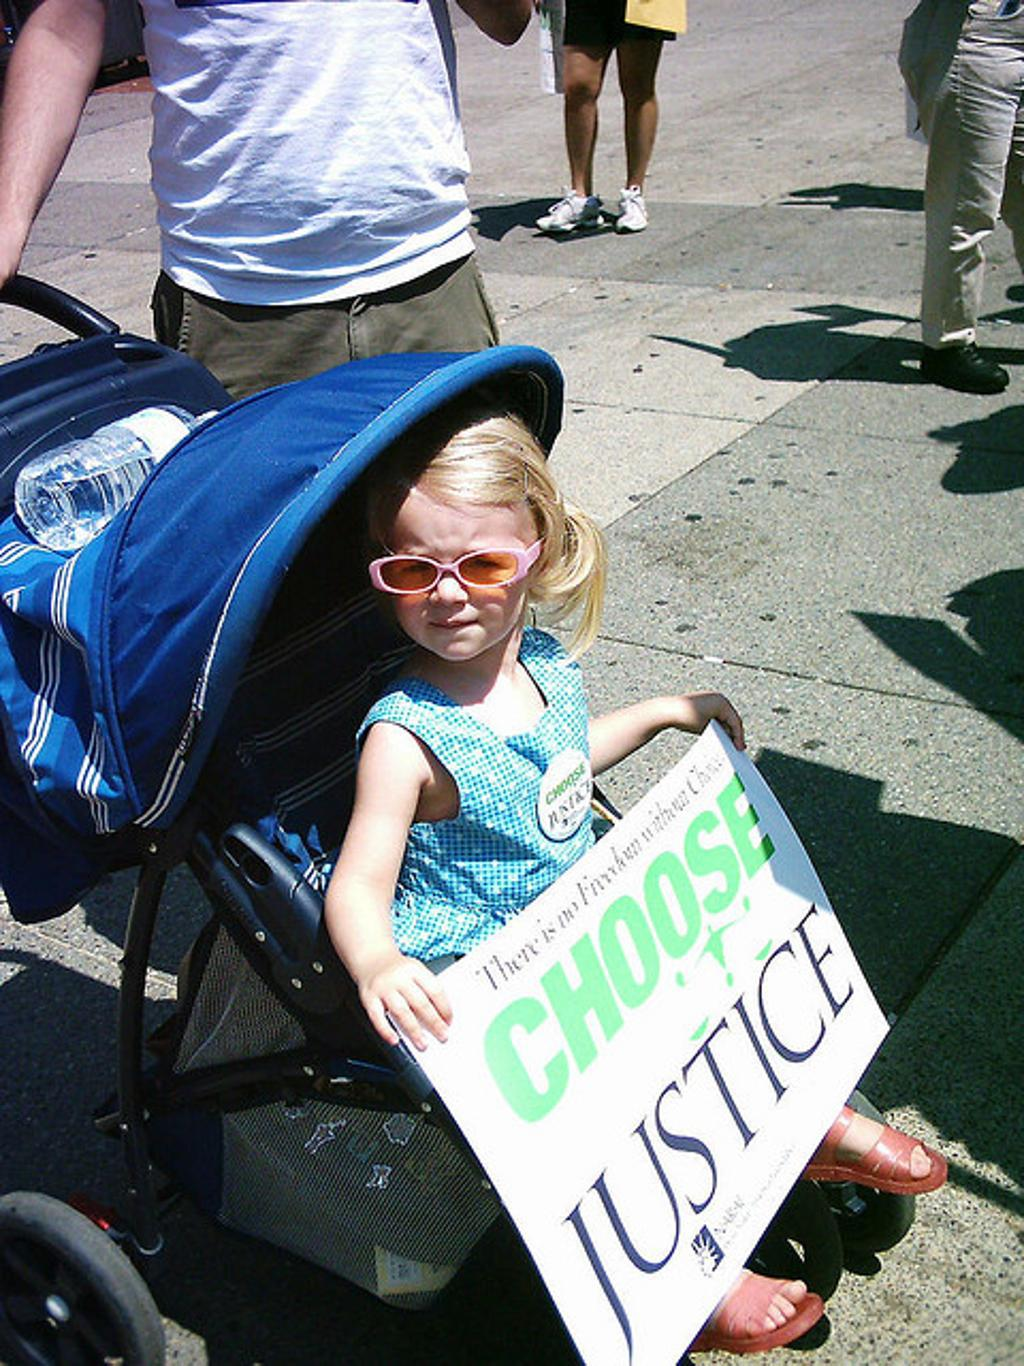face: (382, 500, 534, 660)
